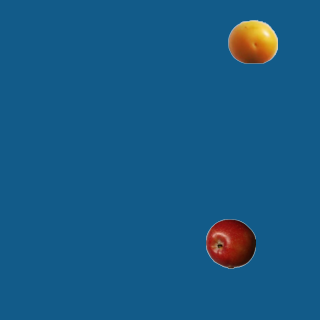Apple Braeburn: (205, 218, 255, 268)
Cherry Wax Yellow: (227, 16, 277, 66)
